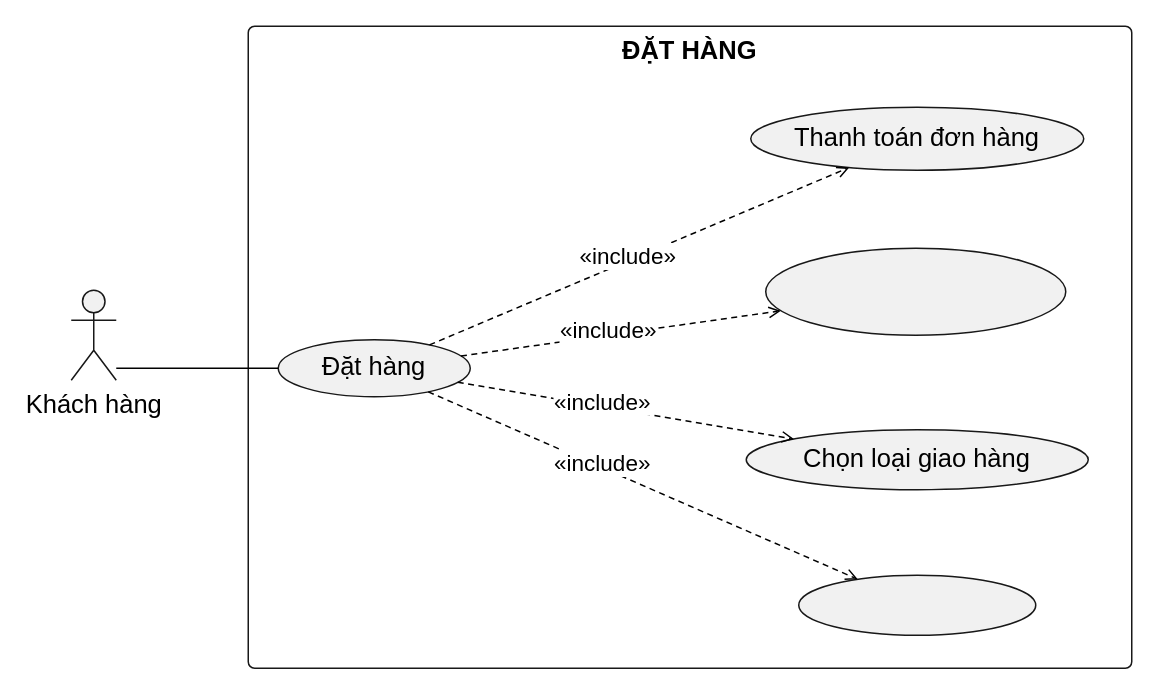
Some shapes in this 1158 by 695 pixel diagram are drawn without their labels. Each missing label, with the centre of its shape:
Nhập thông tin người nhận: pixel 915 291
Đăng nhập: pixel 916 604
